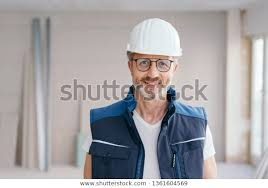Person_wearing_helmet: (119, 16, 189, 72)
